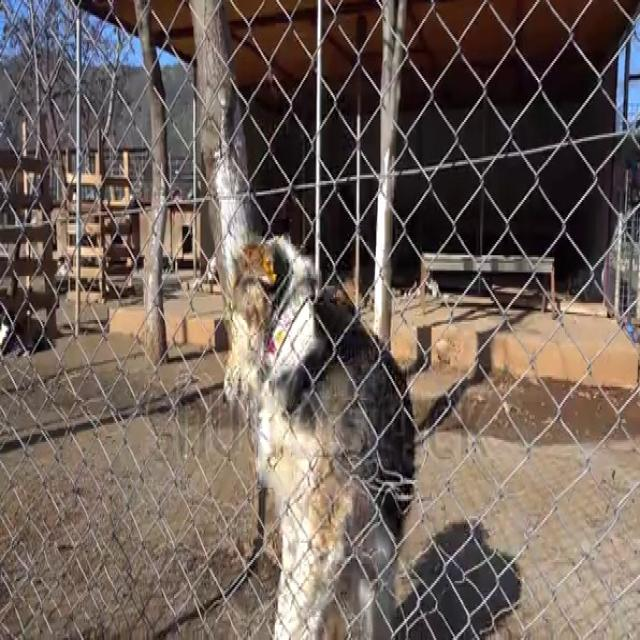injured-animals: (166, 199, 503, 640)
